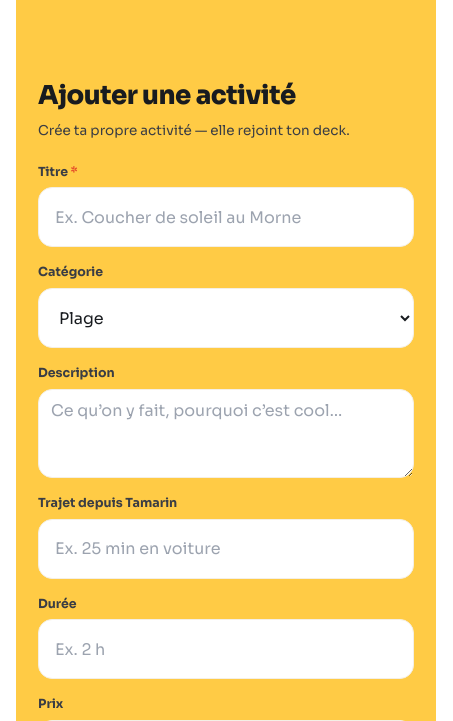
it: AddActivityScreen › clears the form after a successful add
Step 1. Type "Spot test" into the field labelled "Titre" → coordinates (226, 217), box [38,187,414,247]
(page scrolled)
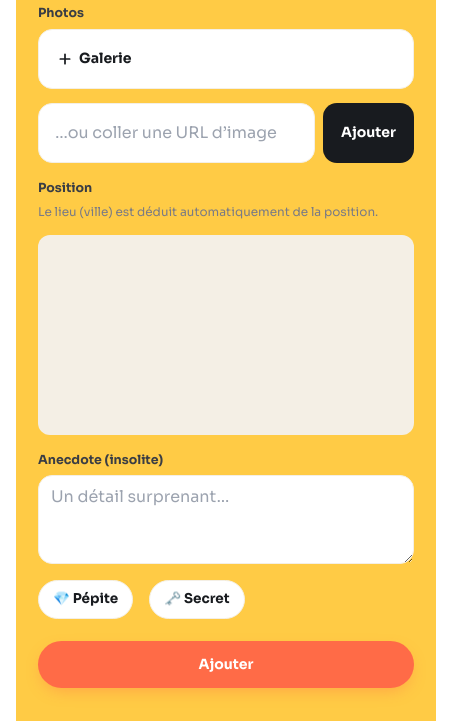
Step 2. Click the button with aria-label "ajouter l’activité" → coordinates (226, 664), box [38,641,414,688]
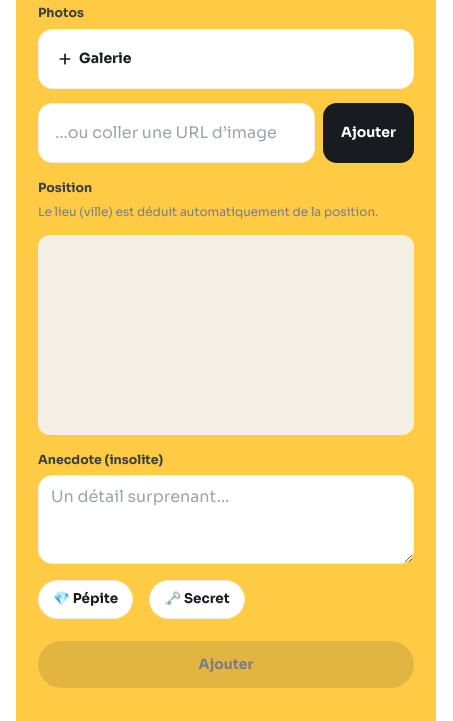
Now the button with aria-label "ajouter l’activité" is disabled, box [38,641,414,688]
